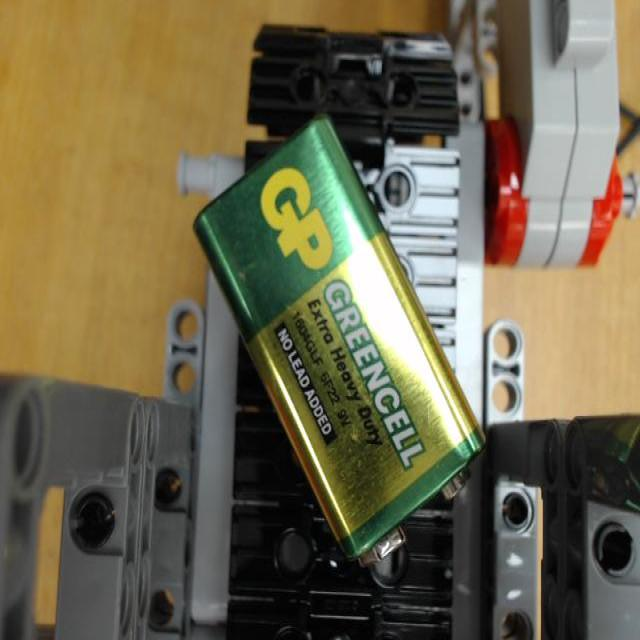9V: (195, 115, 482, 573)
